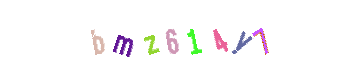1: (154, 0, 234, 80)
4: (189, 0, 269, 80)
6: (140, 0, 220, 80)
7: (221, 0, 301, 80)
B: (83, 0, 163, 80)
M: (110, 0, 190, 80)
Y: (191, 0, 271, 80)
Z: (118, 0, 198, 80)
